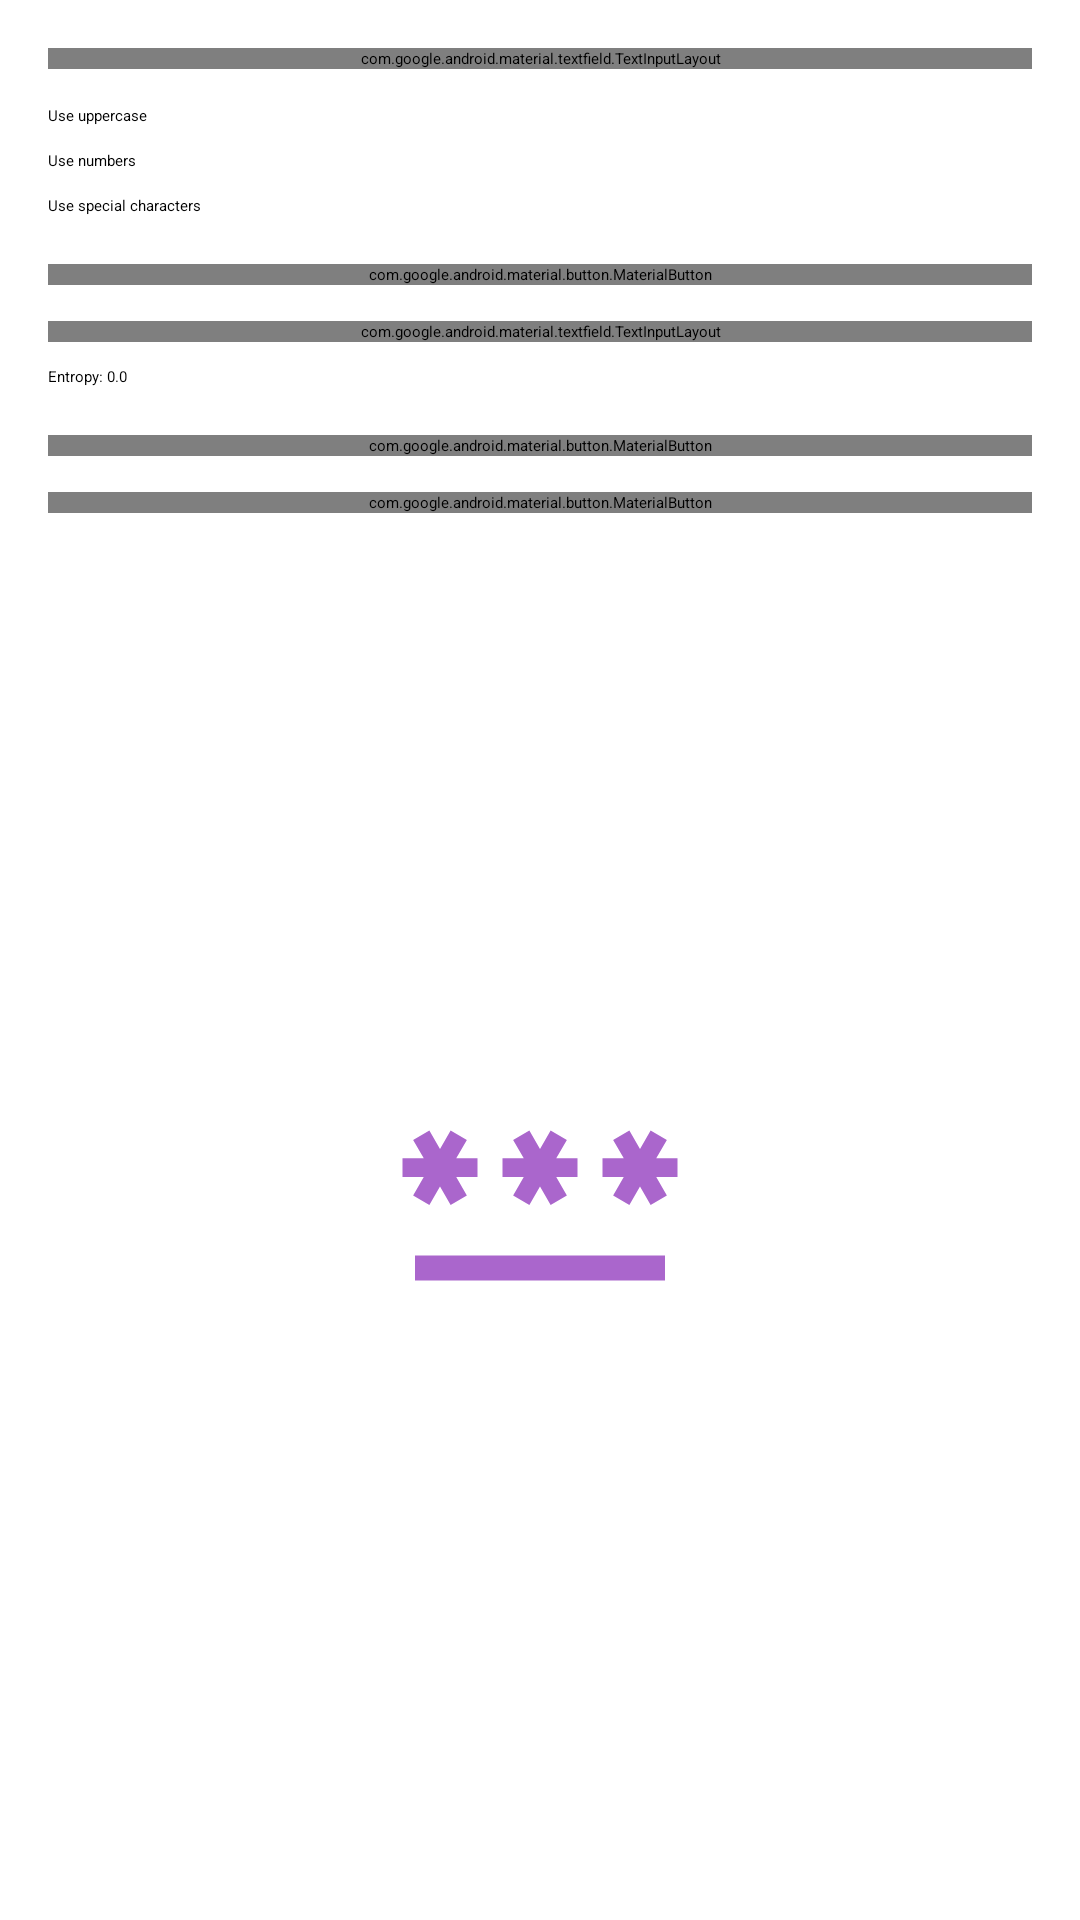

Screen size 1080px×1920px. Icon name, then its center in pixels as [x,y]:
password: [540,1205]
